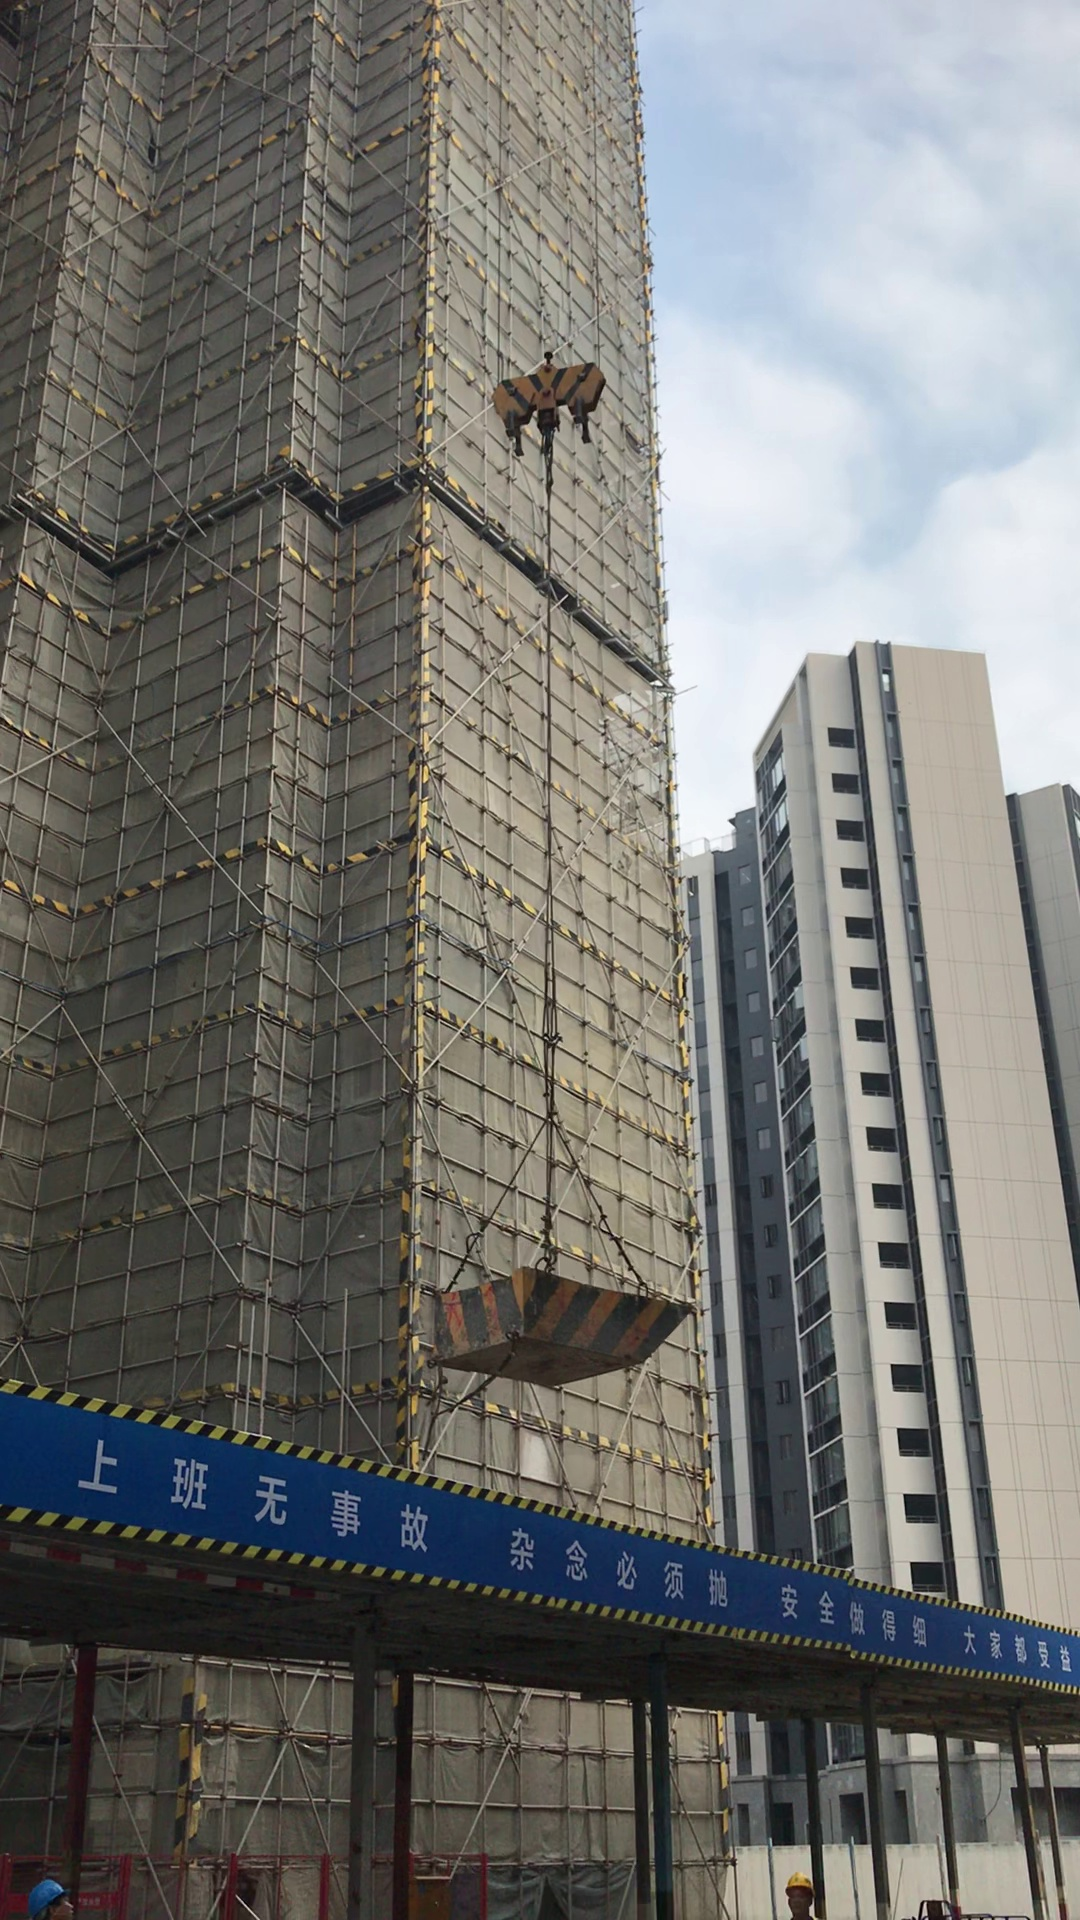fence: (36, 1851, 487, 1916)
hook: (489, 334, 609, 455)
hopper: (422, 1276, 682, 1386)
slogan: (15, 1382, 1080, 1698)
